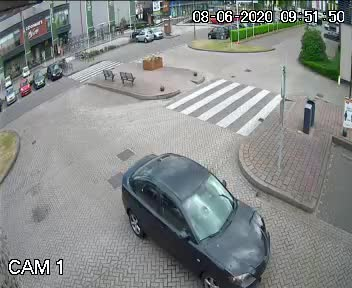car: (119, 152, 280, 288)
